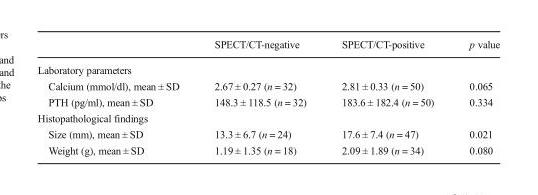table: (36, 37, 499, 155)
table column: (36, 37, 196, 155), (196, 37, 323, 155), (323, 37, 450, 155), (450, 37, 499, 155)
table column header: (36, 37, 499, 56)
table projected row header: (36, 56, 499, 77), (36, 109, 499, 125)
table row: (36, 56, 499, 77), (36, 37, 499, 56), (36, 77, 499, 93), (36, 93, 499, 109), (36, 109, 499, 125), (36, 125, 499, 141), (36, 141, 499, 155)
